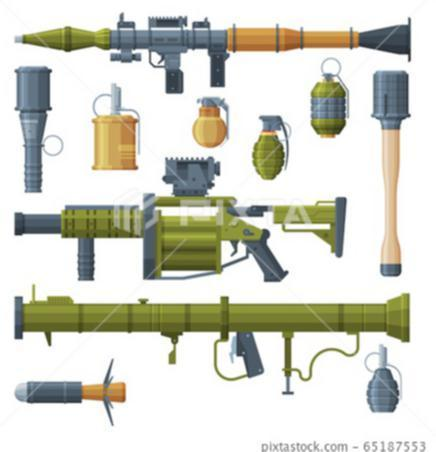Grenade: (309, 57, 349, 138), (364, 343, 403, 415), (251, 114, 290, 180), (191, 95, 230, 149)
